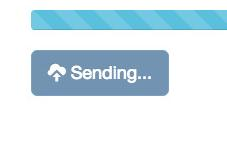button: (30, 48, 172, 96)
